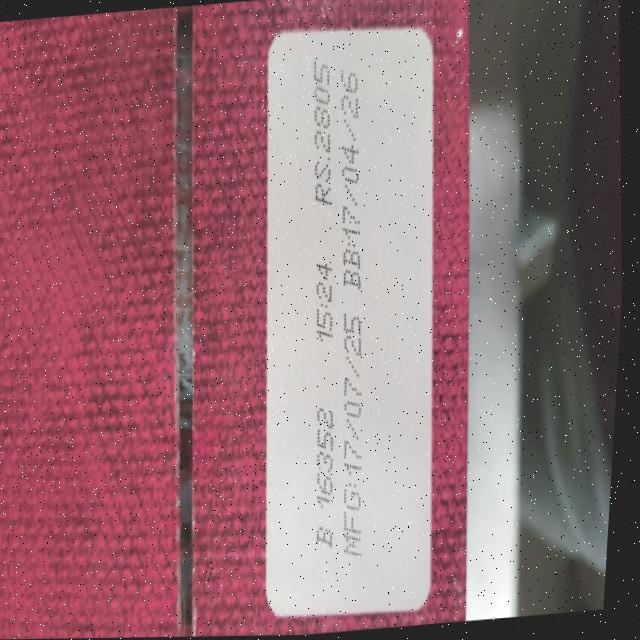BB: (324, 65, 374, 295)
Batch: (303, 391, 349, 563)
MFG: (325, 312, 382, 564)
RS: (302, 59, 340, 209)
TimeStamp: (310, 261, 337, 340)
